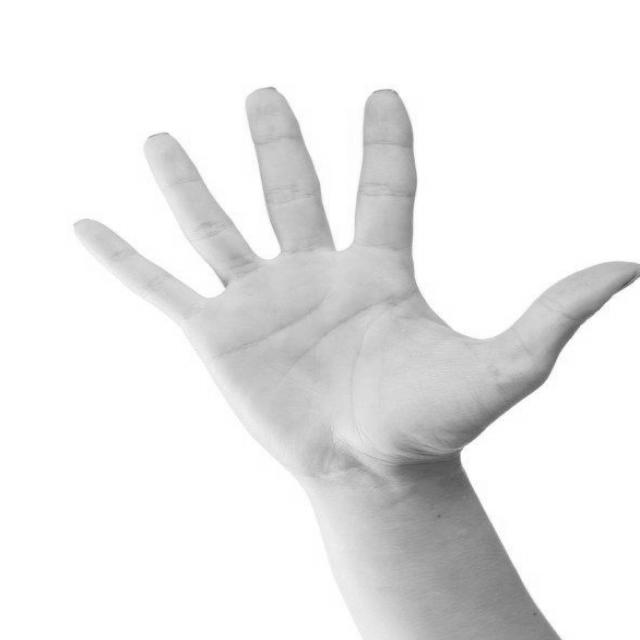stop: (59, 77, 640, 497)
